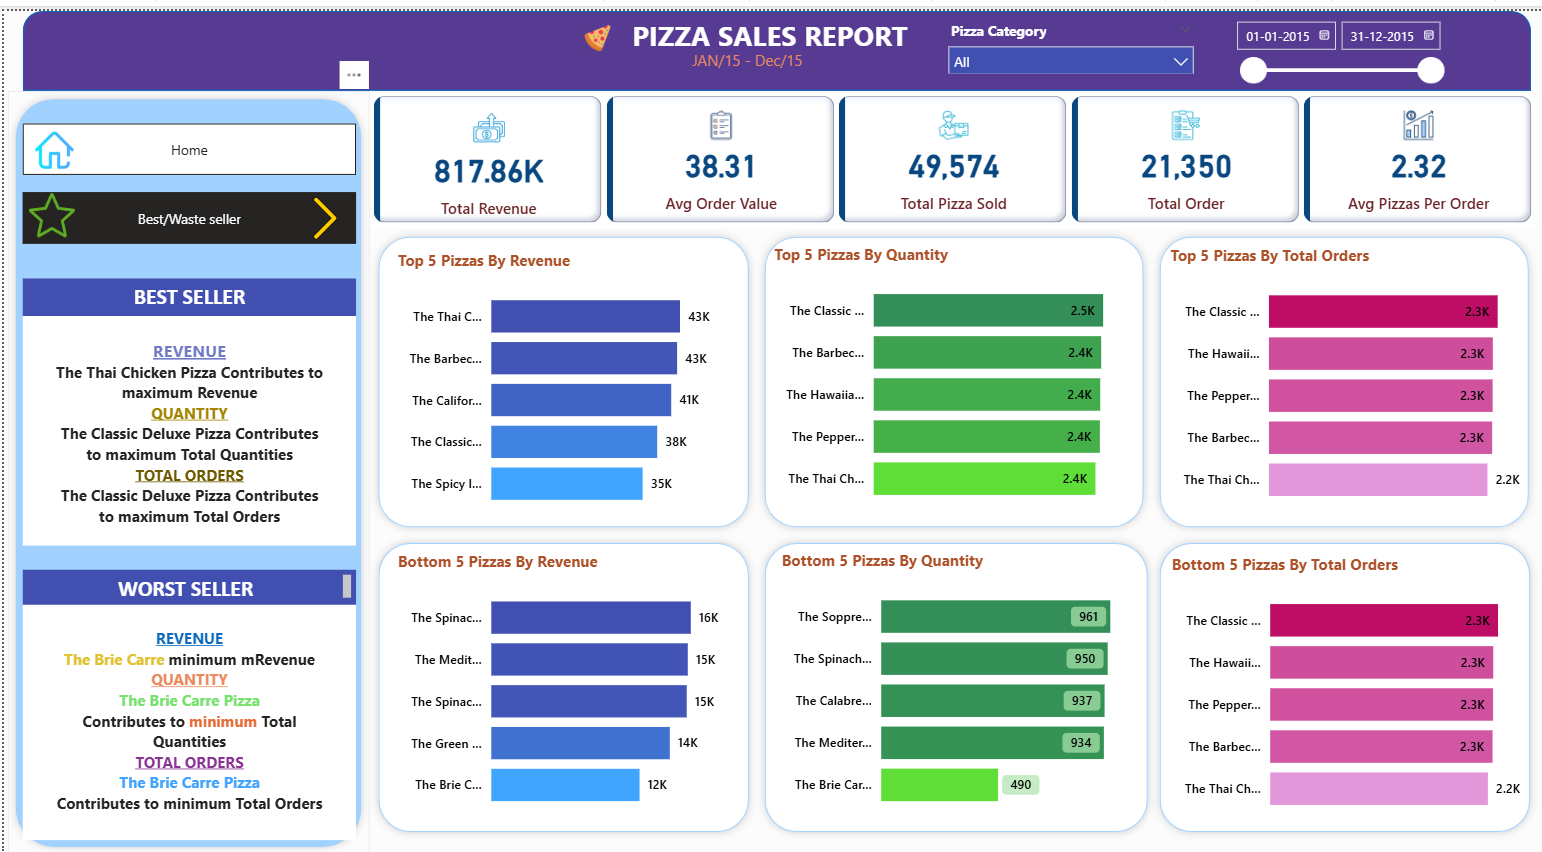

The page's visual inventory and layout, read from the dashboard file:
{"tool":"powerbi","page":{"name":"Best/Waste seller","canvas":[1500,820],"ordinal":1},"visuals":[{"type":"cardVisual","fields":{"Data":["pizza_sales.Total Revenue","pizza_sales.Avg Order Value","pizza_sales.Total Pizza Sold","pizza_sales.Total Order","pizza_sales.Avg Pizzas Per Order"]},"box":[354.3,77.7,1135.1,133.5],"z":0},{"type":"shape","box":[17.7,0,1466.2,77.7],"z":1000},{"type":"textbox","box":[600,0,288.8,45],"z":2000},{"type":"textbox","box":[600,32.5,245,32.5],"z":3000},{"type":"image","box":[561.4,5.5,50.4,39.5],"z":4000},{"type":"shape","box":[355.7,211.2,376.1,298.4],"z":5000},{"type":"shape","box":[4.1,77.7,351.6,742.6],"z":6000},{"type":"textbox","box":[17.7,260.3,324.3,36.8],"z":7000},{"type":"textbox","box":[17.7,297.1,324.3,223.5],"z":8000},{"type":"textbox","box":[17.7,543.7,324.3,34.1],"z":9000},{"type":"textbox","box":[17.7,577.8,324.3,228.9],"z":10000},{"type":"slicer","fields":{"Values":["pizza_sales.pizza_category"]},"box":[907.5,5.5,258.9,55.9],"z":11000},{"type":"slicer","fields":{"Values":["pizza_sales.order_date"]},"box":[1185.5,0,222.1,77.7],"z":12000},{"type":"shape","box":[731.7,211.2,384.3,298.4],"z":13000},{"type":"shape","box":[1116,211.2,374.7,298.4],"z":14000},{"type":"shape","box":[731.7,509.6,388.4,297.1],"z":15000},{"type":"shape","box":[355.7,509.6,376.1,297.1],"z":16000},{"type":"shape","box":[1116,509.6,376.1,297.1],"z":17000},{"type":"barChart","title":"Top 5 Pizzas By Revenue","fields":{"Category":["pizza_sales.pizza_name"],"Y":["pizza_sales.Total Revenue"]},"box":[377.5,231.7,333.8,265.7],"z":18000},{"type":"barChart","title":"Bottom 5 Pizzas By Revenue","fields":{"Category":["pizza_sales.pizza_name"],"Y":["pizza_sales.Total Revenue"]},"box":[377.5,524.6,333.8,265.7],"z":19000},{"type":"barChart","title":"Top 5 Pizzas By Quantity","fields":{"Category":["pizza_sales.pizza_name"],"Y":["pizza_sales.Total Pizza Sold"]},"box":[744,226.2,354.3,267.1],"z":20000},{"type":"barChart","title":"Bottom 5 Pizzas By Quantity","fields":{"Category":["pizza_sales.pizza_name"],"Y":["pizza_sales.Total Pizza Sold"]},"box":[750.8,523.3,354.3,267.1],"z":21000},{"type":"barChart","title":"Top 5 Pizzas By Total Orders","fields":{"Category":["pizza_sales.pizza_name"],"Y":["pizza_sales.Total Order"]},"box":[1128.9,226.7,353.8,266.9],"z":22000},{"type":"barChart","title":"Bottom 5 Pizzas By Total Orders","fields":{"Category":["pizza_sales.pizza_name"],"Y":["pizza_sales.Total Order"]},"box":[1129.6,527.3,352.9,267.1],"z":23000},{"type":"pageNavigator","box":[17.7,175.8,324.3,50.4],"z":24000},{"type":"pageNavigator","box":[17.7,109,324.3,50.4],"z":25000},{"type":"image","box":[283.4,175.8,58.6,50.4],"z":26000},{"type":"image","box":[17.7,111.7,61.3,47.7],"z":27000},{"type":"image","box":[15,171.7,64,54.5],"z":28000}]}

Visuals, with their boxes in screenshot pixels (x1, y1, x2, y2), scaled from the page's 1500x820 canvas onto the 1542x852 screenshot:
cardVisual - pizza_sales.Total Revenue x pizza_sales.Avg Order Value: {"left": 364, "top": 81, "right": 1531, "bottom": 219}
shape: {"left": 18, "top": 0, "right": 1525, "bottom": 81}
textbox: {"left": 617, "top": 0, "right": 914, "bottom": 47}
textbox: {"left": 617, "top": 34, "right": 869, "bottom": 68}
image: {"left": 577, "top": 6, "right": 629, "bottom": 47}
shape: {"left": 366, "top": 219, "right": 752, "bottom": 529}
shape: {"left": 4, "top": 81, "right": 366, "bottom": 851}
textbox: {"left": 18, "top": 270, "right": 352, "bottom": 309}
textbox: {"left": 18, "top": 309, "right": 352, "bottom": 541}
textbox: {"left": 18, "top": 565, "right": 352, "bottom": 600}
textbox: {"left": 18, "top": 600, "right": 352, "bottom": 838}
slicer - pizza_sales.pizza_category: {"left": 933, "top": 6, "right": 1199, "bottom": 64}
slicer - pizza_sales.order_date: {"left": 1219, "top": 0, "right": 1447, "bottom": 81}
shape: {"left": 752, "top": 219, "right": 1147, "bottom": 529}
shape: {"left": 1147, "top": 219, "right": 1532, "bottom": 529}
shape: {"left": 752, "top": 529, "right": 1151, "bottom": 838}
shape: {"left": 366, "top": 529, "right": 752, "bottom": 838}
shape: {"left": 1147, "top": 529, "right": 1534, "bottom": 838}
"Top 5 Pizzas By Revenue" barChart: {"left": 388, "top": 241, "right": 731, "bottom": 517}
"Bottom 5 Pizzas By Revenue" barChart: {"left": 388, "top": 545, "right": 731, "bottom": 821}
"Top 5 Pizzas By Quantity" barChart: {"left": 765, "top": 235, "right": 1129, "bottom": 513}
"Bottom 5 Pizzas By Quantity" barChart: {"left": 772, "top": 544, "right": 1136, "bottom": 821}
"Top 5 Pizzas By Total Orders" barChart: {"left": 1161, "top": 236, "right": 1524, "bottom": 513}
"Bottom 5 Pizzas By Total Orders" barChart: {"left": 1161, "top": 548, "right": 1524, "bottom": 825}
pageNavigator: {"left": 18, "top": 183, "right": 352, "bottom": 235}
pageNavigator: {"left": 18, "top": 113, "right": 352, "bottom": 166}
image: {"left": 291, "top": 183, "right": 352, "bottom": 235}
image: {"left": 18, "top": 116, "right": 81, "bottom": 166}
image: {"left": 15, "top": 178, "right": 81, "bottom": 235}
